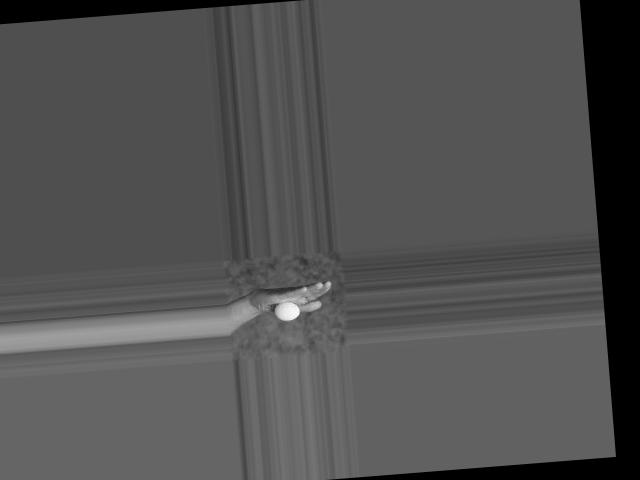egg: (273, 300, 299, 321)
